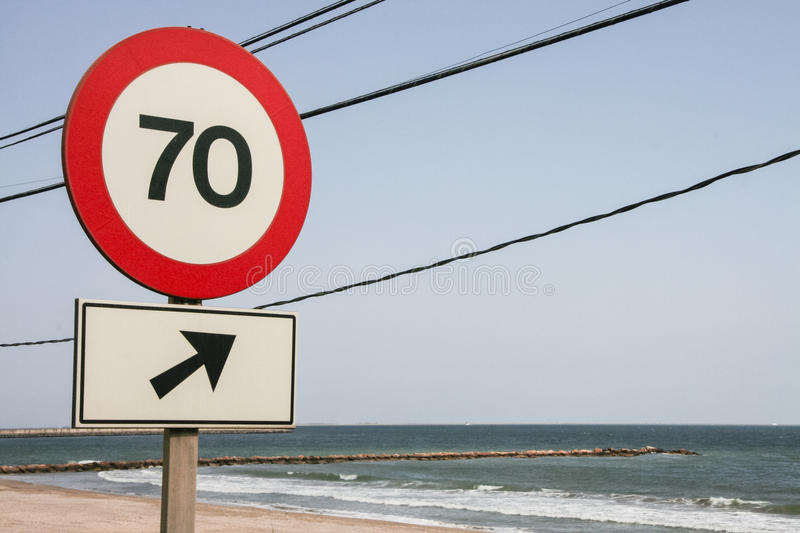Speed_limit_70km: (62, 28, 313, 299)
